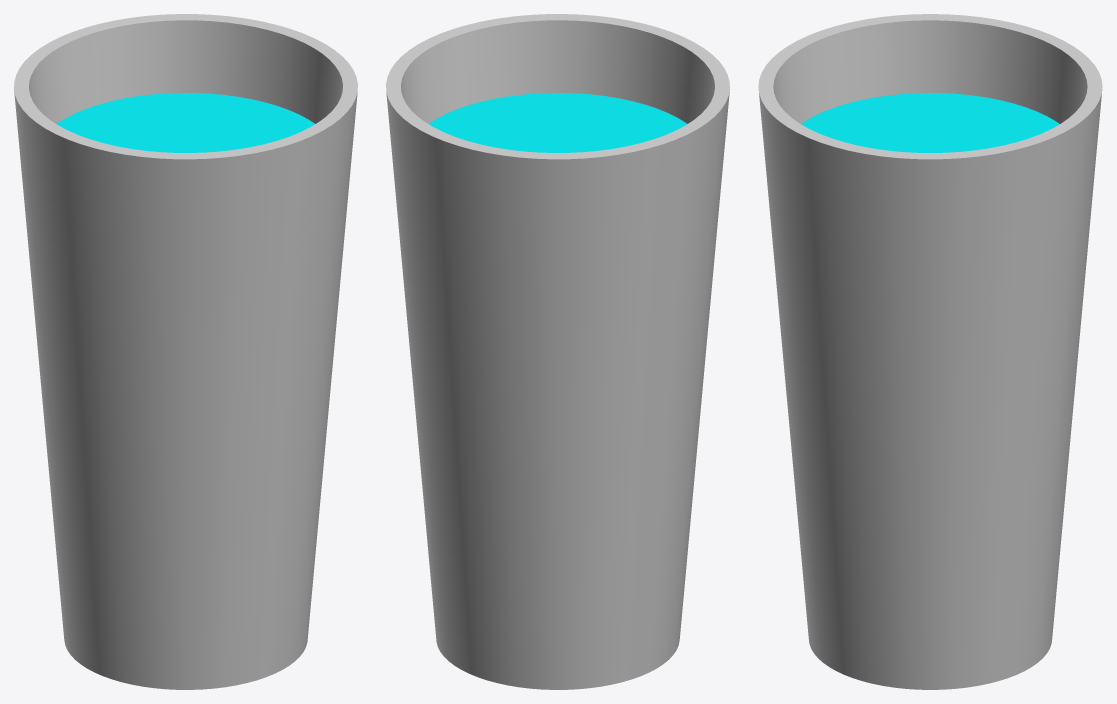
3 renders of one model, left to right at view 1: azimuth 30°, elevation 25°; view 2: azimuth 150°, elevation 25°; view 3: azimuth 270°, elevation 25°, orthographic.
Parts seen in each view (by area): view 1: body, recessed_surface; view 2: body, recessed_surface; view 3: body, recessed_surface.
Boxes of the visible parts, x1=… form: body: x1=14, y1=14, x2=357, y2=689; recessed_surface: x1=56, y1=93, x2=314, y2=152; body: x1=386, y1=14, x2=729, y2=689; recessed_surface: x1=429, y1=93, x2=687, y2=152; body: x1=758, y1=14, x2=1102, y2=689; recessed_surface: x1=801, y1=93, x2=1059, y2=152.
Bounding box in the file's own units: 0.0848 × 0.15 × 0.0848.
